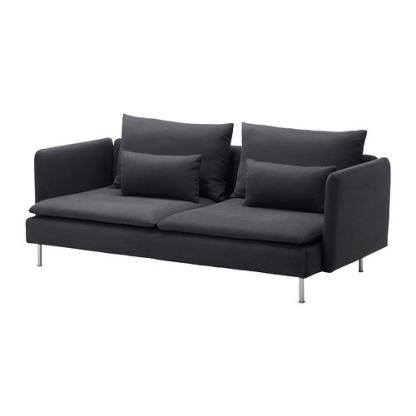Sofa: (22, 112, 393, 305)
